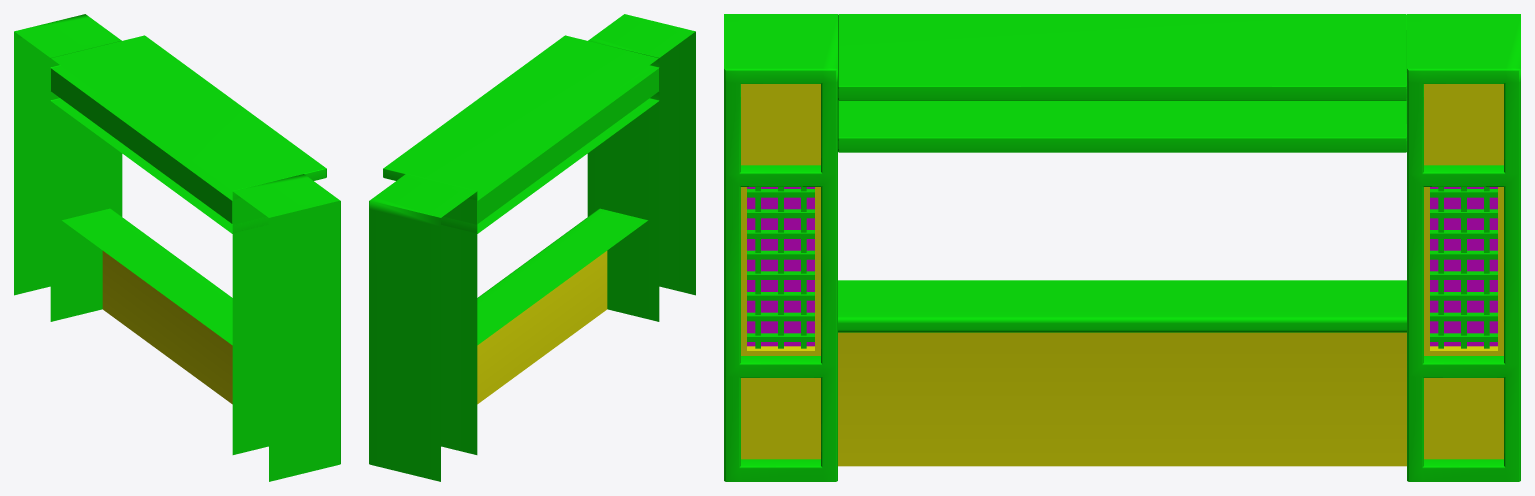
The model's file is Backdrop.fbx.
3 renders of one model, left to right at view 1: azimuth 30°, elevation 25°; view 2: azimuth 150°, elevation 25°; view 3: azimuth 270°, elevation 25°, orthographic. The views are drawn at different scales.
Visible parts, largest first — view 1: BackdropCounter, BackdropPillar_01, BackdropPillar_02; view 2: BackdropCounter, BackdropPillar_02, BackdropPillar_01; view 3: BackdropCounter, BackdropPillar_01, BackdropPillar_02.
Boxes of the visible parts, x1,y1,x2,y2 form: BackdropCounter: (50,35,326,404); BackdropPillar_01: (232,174,340,481); BackdropPillar_02: (14,14,122,321); BackdropCounter: (383,35,659,404); BackdropPillar_02: (369,174,477,481); BackdropPillar_01: (587,14,695,321); BackdropCounter: (838,14,1406,466); BackdropPillar_01: (724,14,837,481); BackdropPillar_02: (1407,14,1520,481).
Size of the model in its own units: 150 by 400 by 700.
